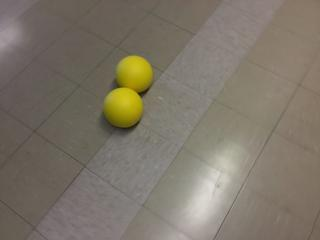power_cell: (102, 87, 144, 128), (114, 54, 154, 94)
